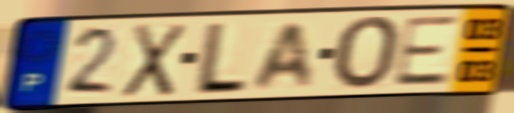2: (60, 24, 123, 101)
A: (249, 19, 316, 93)
E: (389, 13, 461, 90)
L: (188, 19, 252, 98)
O: (331, 14, 404, 93)
X: (119, 21, 190, 101)
